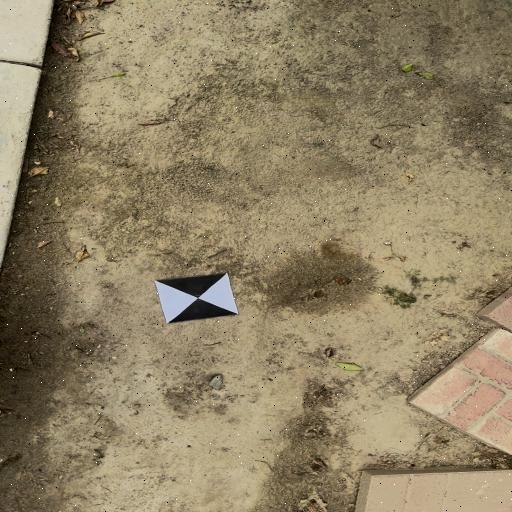target: (155, 273, 238, 323)
